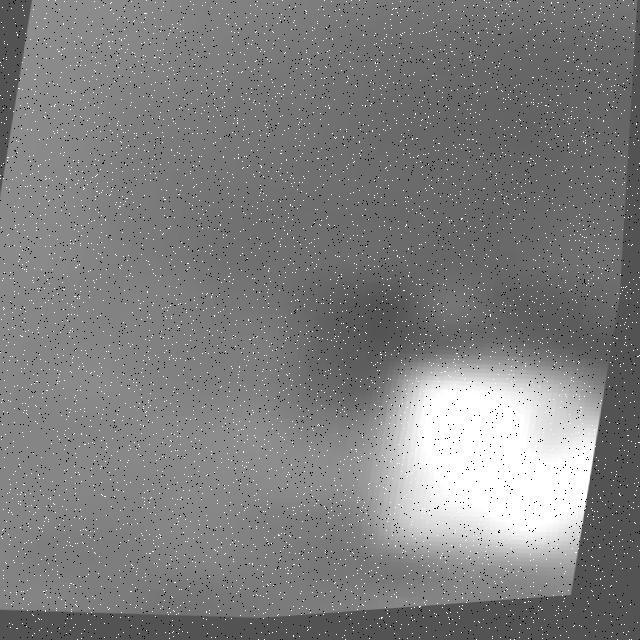person: (299, 301, 622, 598)
